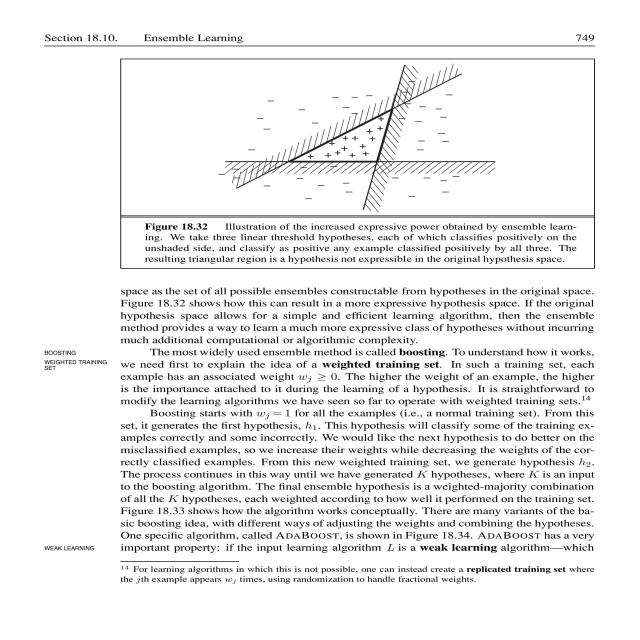diagram: (107, 54, 595, 272)
